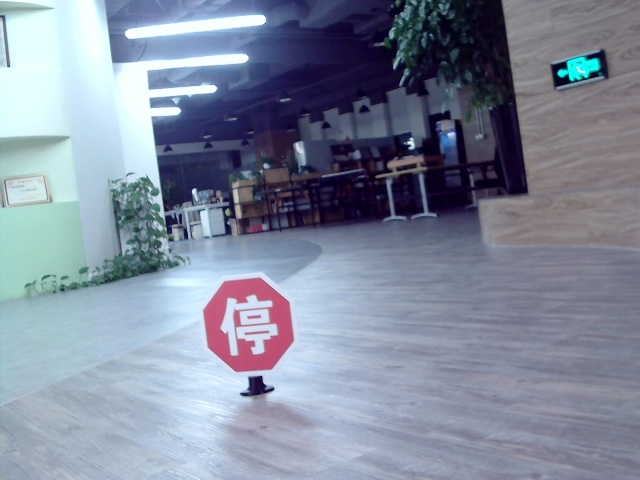stop: (217, 293, 278, 354)
